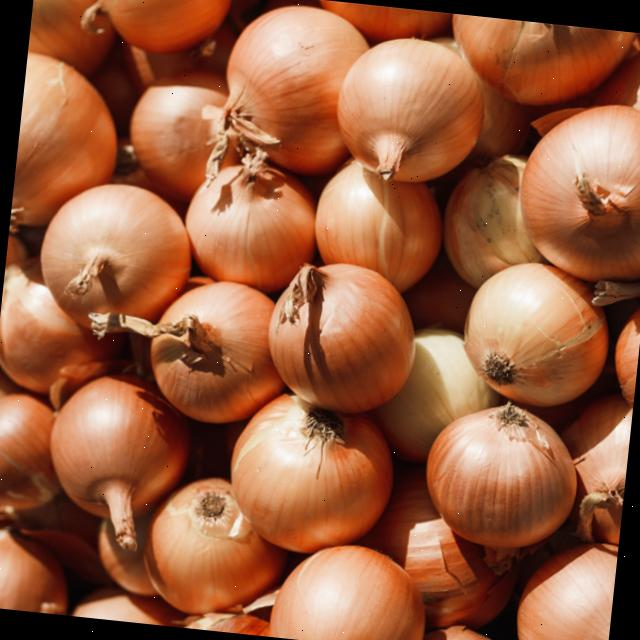Onion: (230, 391, 391, 552), (222, 5, 368, 174), (50, 373, 186, 549), (124, 279, 284, 422), (39, 181, 192, 327), (267, 261, 414, 411), (426, 401, 576, 547), (521, 103, 640, 281), (336, 37, 483, 180), (463, 261, 607, 405), (142, 474, 286, 613), (184, 157, 314, 291), (313, 158, 442, 291), (269, 543, 424, 640)
